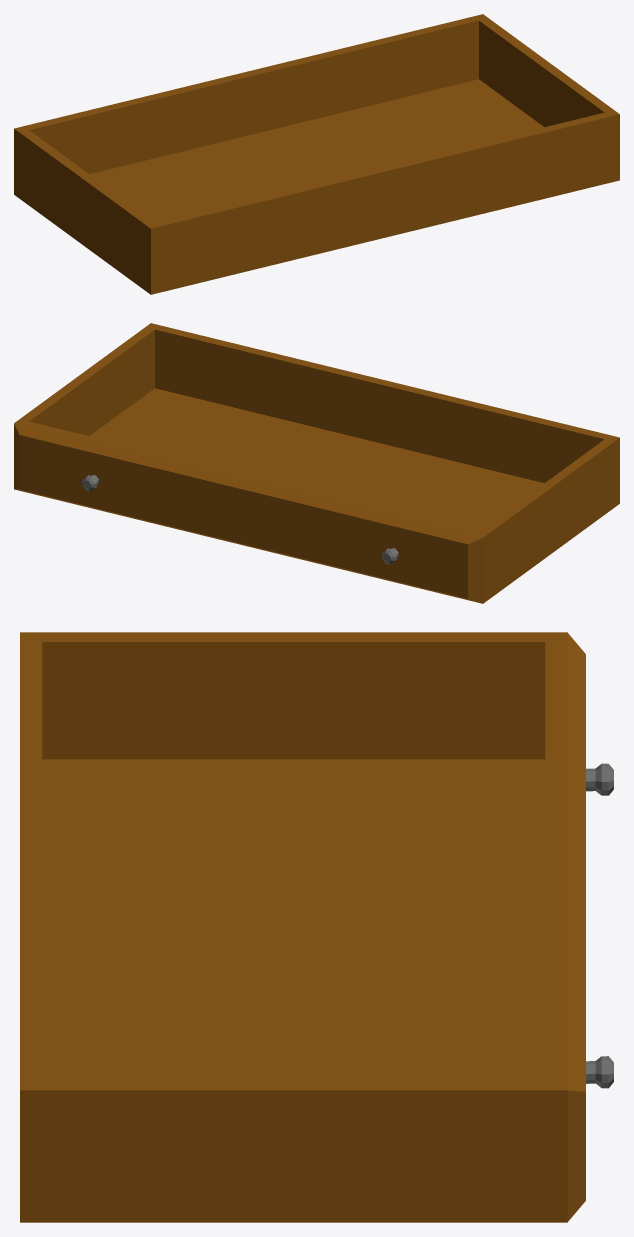
File: Dresser_Draw.fbx
The picture shows the model from 3 angles, top to bottom: view 1: azimuth 30°, elevation 25°; view 2: azimuth 150°, elevation 25°; view 3: azimuth 270°, elevation 25°; orthographic projection. The views are drawn at different scales.
Visible parts, largest first — view 1: Cube.074; view 2: Cube.074; view 3: Cube.074.
Boxes of the visible parts, x1,y1,x2,y2 form: Cube.074: (14, 14, 619, 294); Cube.074: (14, 323, 619, 603); Cube.074: (20, 632, 613, 1222).
Size of the model in its own units: 170 by 22.86 by 93.08.
